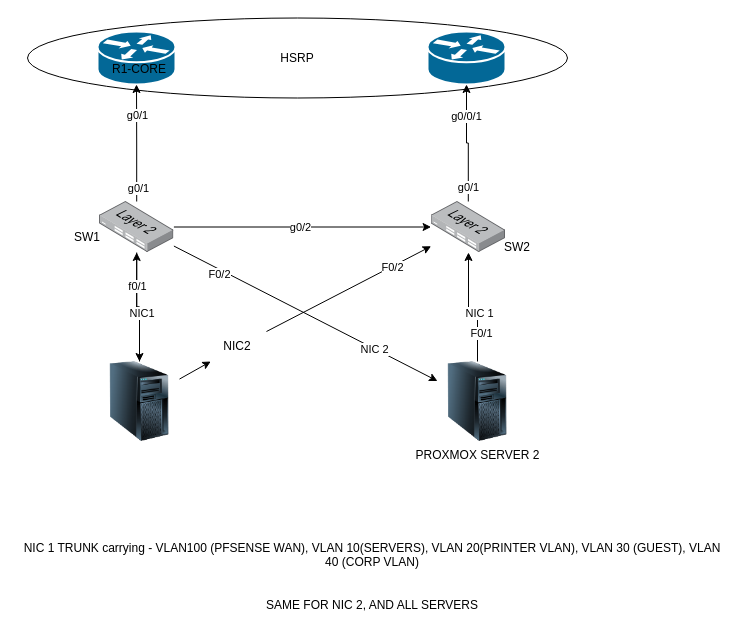
Image size: 744x629. Some labels were removed from this diagram. Each missing label, with the box of its shape:
PROXMOX SERVER 1: (99, 361, 179, 441)
R2-CORE: (426, 30, 506, 85)
